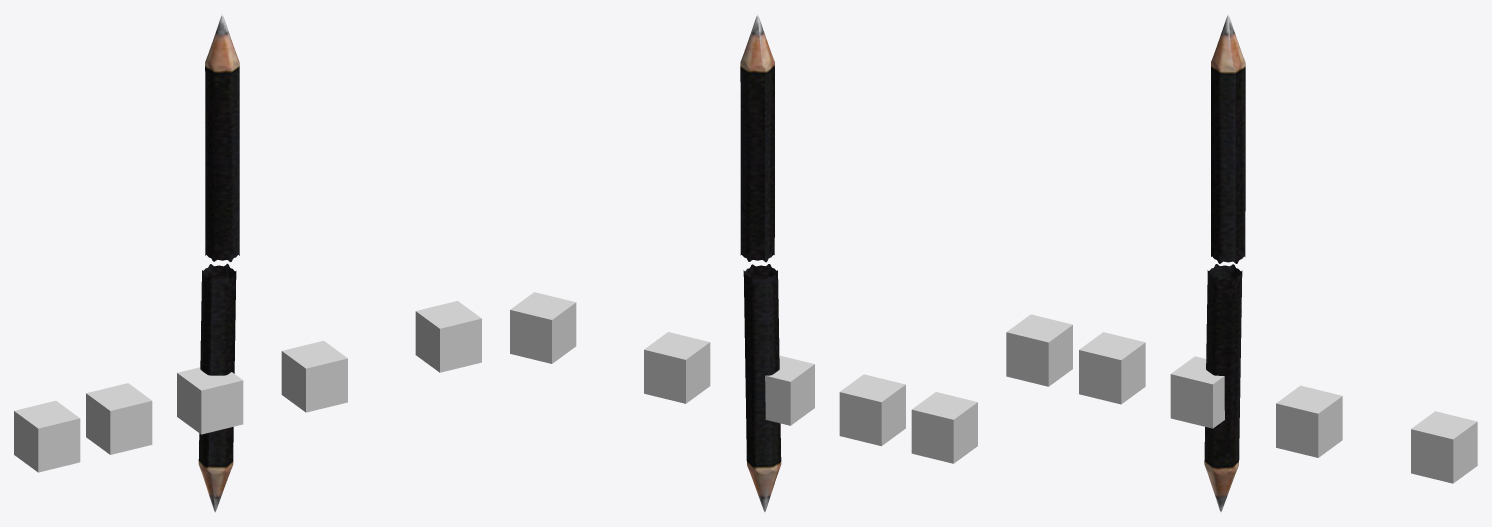
Rendered from Pencel_RigitBody5.fbx.
3 renders of one model, left to right at view 1: azimuth 30°, elevation 25°; view 2: azimuth 150°, elevation 25°; view 3: azimuth 330°, elevation 25°, orthographic.
Visible parts, largest first — view 1: Pencil_up.001, Pencil_up.000, Cube.003, Cube.001, Cube, Cube.004, Cube.002; view 2: Pencil_up.001, Pencil_up.000, Cube.001, Cube, Cube.004, Cube.003, Cube.002; view 3: Pencil_up.001, Pencil_up.000, Cube.001, Cube, Cube.004, Cube.003, Cube.002.
Boxes of the visible parts, x1=… form: Pencil_up.001: x1=205, y1=14, x2=239, y2=262; Pencil_up.000: x1=198, y1=263, x2=236, y2=512; Cube.003: x1=281, y1=340, x2=347, y2=412; Cube.001: x1=86, y1=383, x2=152, y2=454; Cube: x1=14, y1=400, x2=80, y2=472; Cube.004: x1=415, y1=301, x2=481, y2=372; Cube.002: x1=177, y1=367, x2=243, y2=434; Pencil_up.001: x1=740, y1=14, x2=774, y2=262; Pencil_up.000: x1=743, y1=264, x2=781, y2=512; Cube.001: x1=839, y1=374, x2=905, y2=446; Cube: x1=911, y1=392, x2=977, y2=463; Cube.004: x1=510, y1=292, x2=576, y2=363; Cube.003: x1=644, y1=332, x2=710, y2=403; Cube.002: x1=765, y1=355, x2=814, y2=425; Pencil_up.001: x1=1211, y1=14, x2=1245, y2=263; Pencil_up.000: x1=1204, y1=264, x2=1242, y2=512; Cube.001: x1=1079, y1=332, x2=1145, y2=404; Cube: x1=1006, y1=314, x2=1072, y2=386; Cube.004: x1=1411, y1=411, x2=1477, y2=483; Cube.003: x1=1276, y1=385, x2=1342, y2=457; Cube.002: x1=1170, y1=356, x2=1224, y2=428.
Bounding box in the file's own units: 21.11 × 22.61 × 2.2.
